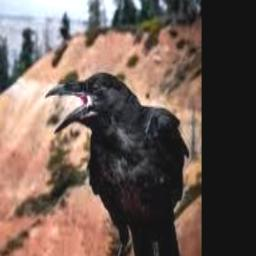Crow: (46, 71, 195, 256)
